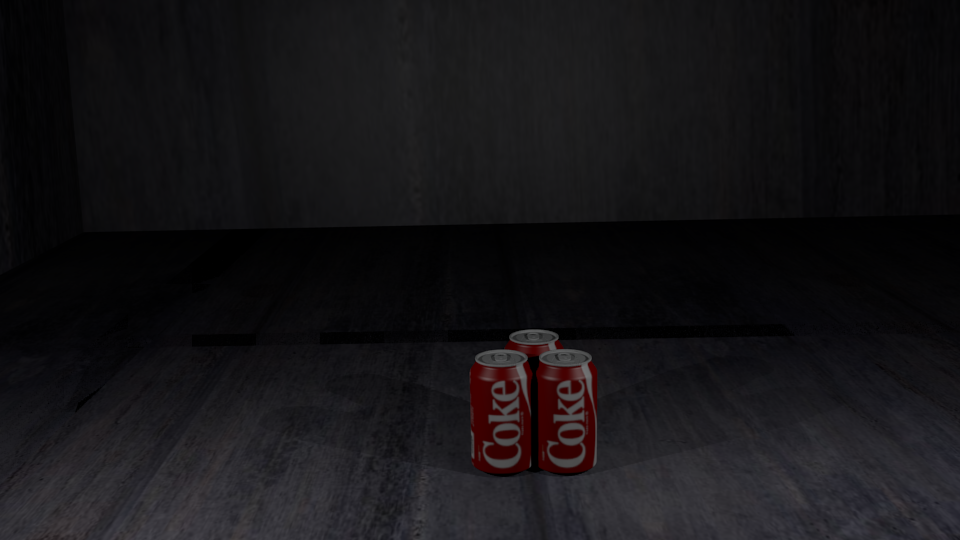cola_can: (470, 350, 532, 470), (534, 349, 596, 469), (505, 330, 563, 443)
